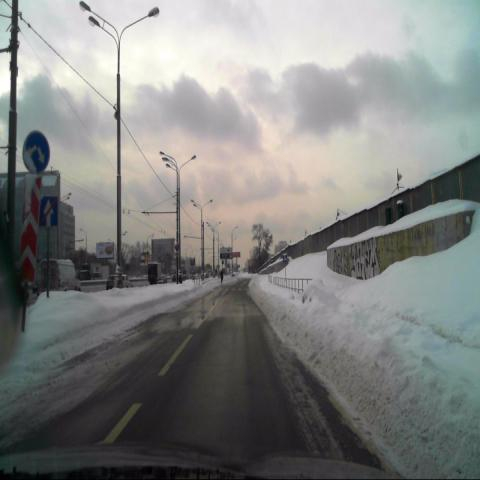4_2_3: (22, 128, 51, 176)
5_6: (39, 193, 58, 229)
